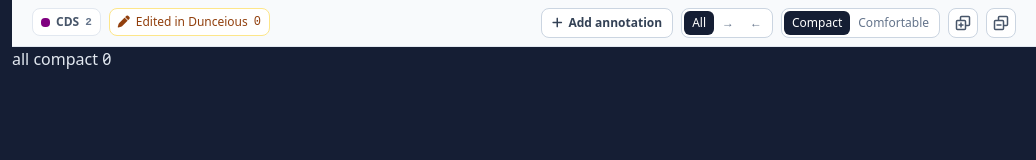
it: filter segments › sets the same strand and density states through labelled buttons
Click the button named "Reverse strand only".
click(756, 23)  # box [742,11,770,35]
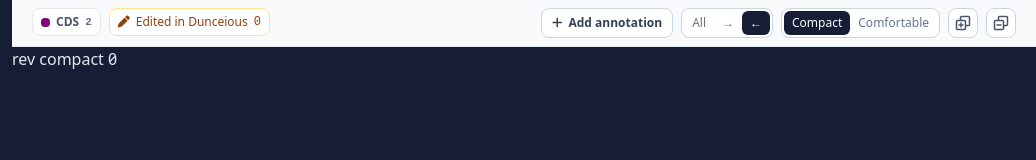
Expected: the text named "Filter state" reads "rev compact 0", [12,48,117,70]
Click the button "Comfortable".
click(894, 23)  # box [850,11,937,35]
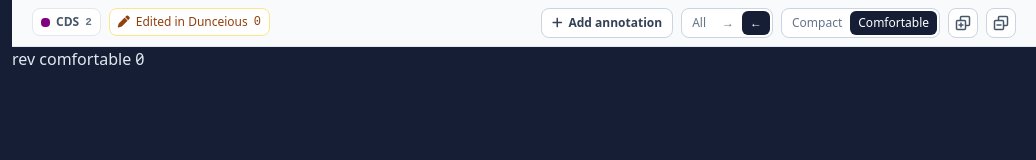
Expected: the text named "Filter state" reads "rev comfortable 0", [12,48,144,70]
Click the button named "Forward strand only".
click(728, 23)  # box [714,11,742,35]
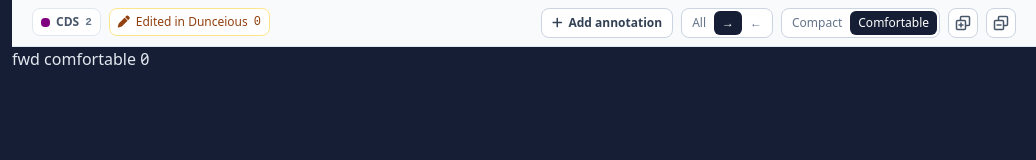
Click the button with aria-label "All strands".
click(699, 23)  # box [684,11,714,35]
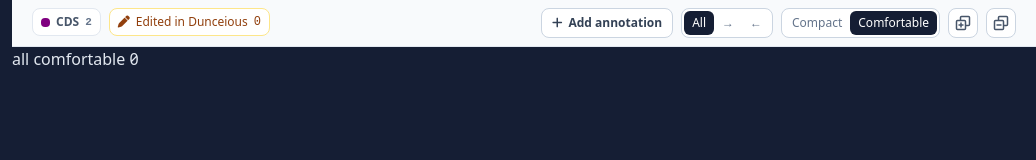
Expected: the text named "Filter state" reads "all comfortable 0", [12,48,139,70]
